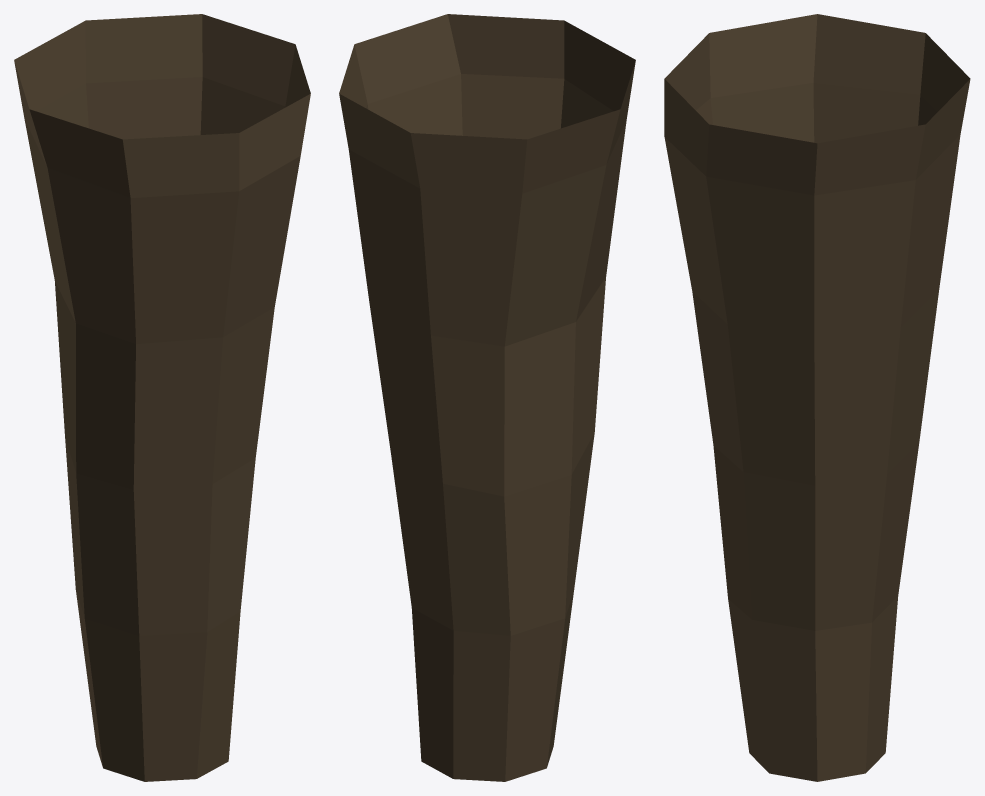
The model's file is Torch.fbx.
The picture shows the model from 3 angles, left to right: view 1: azimuth 30°, elevation 25°; view 2: azimuth 150°, elevation 25°; view 3: azimuth 270°, elevation 25°; orthographic projection.
Visible parts, largest first — view 1: Cylinder; view 2: Cylinder; view 3: Cylinder.
Boxes of the visible parts, x1=… form: Cylinder: x1=14, y1=14, x2=310, y2=781; Cylinder: x1=339, y1=14, x2=635, y2=781; Cylinder: x1=664, y1=14, x2=970, y2=781.
Bounding box in the file's own units: 90 × 219 × 90.
